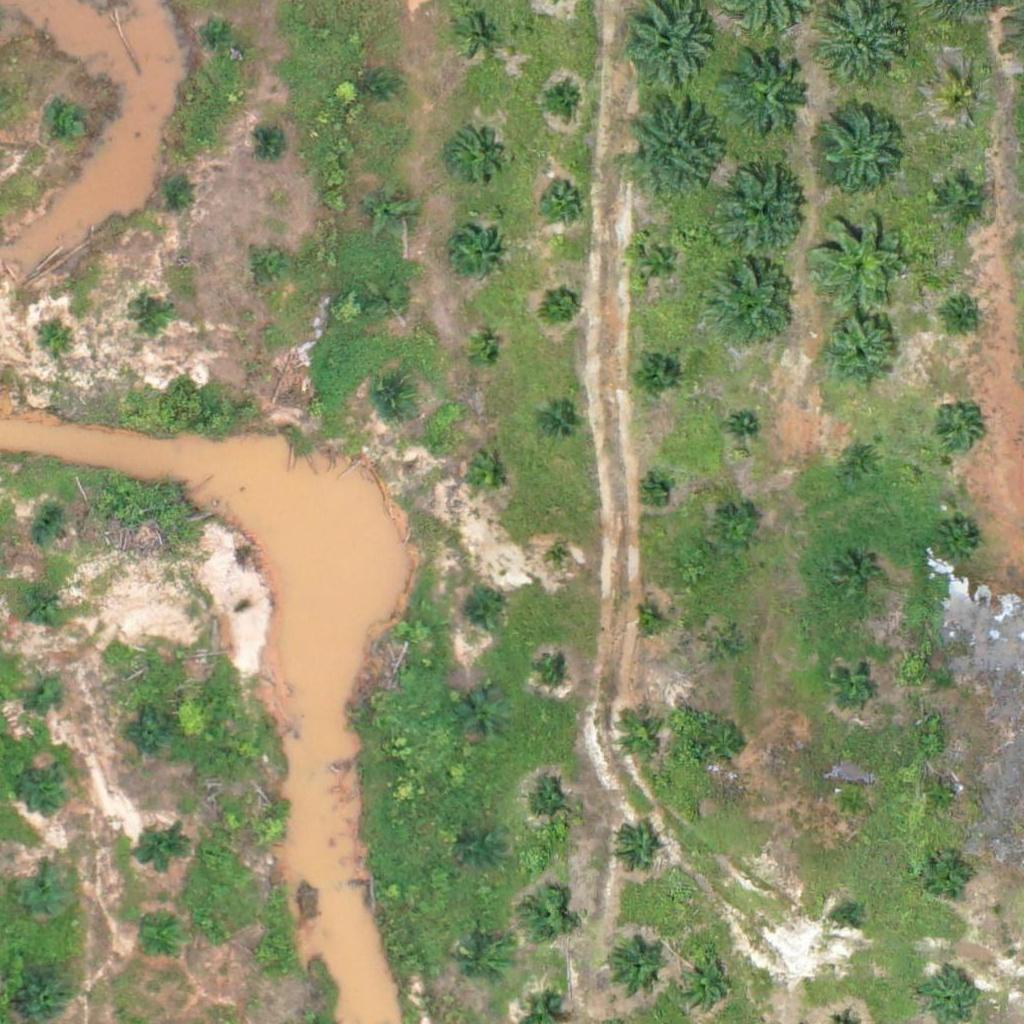Kelapa_Sawit: (809, 208, 909, 309), (627, 100, 727, 201), (822, 2, 910, 91), (816, 309, 904, 397), (707, 258, 795, 346), (719, 166, 807, 254), (726, 53, 814, 141), (816, 98, 903, 186), (15, 864, 78, 927), (673, 953, 736, 1016), (446, 224, 508, 287), (607, 935, 669, 998), (22, 971, 72, 1022), (703, 718, 753, 769), (923, 848, 973, 899), (449, 127, 499, 178), (616, 712, 666, 763), (462, 451, 512, 502), (365, 184, 415, 235), (23, 762, 73, 812), (937, 176, 987, 226), (524, 783, 574, 833), (522, 892, 572, 942), (611, 825, 661, 875), (136, 826, 186, 876), (134, 916, 184, 966), (931, 405, 981, 455), (934, 519, 984, 569), (831, 658, 881, 708), (831, 551, 881, 601), (838, 437, 888, 487), (711, 507, 761, 557), (630, 347, 680, 397), (458, 691, 508, 741), (127, 711, 177, 761), (938, 76, 988, 126), (633, 238, 683, 288), (538, 174, 588, 224), (460, 942, 510, 992), (245, 935, 283, 973), (251, 810, 289, 848), (462, 592, 500, 630), (355, 69, 393, 107), (29, 670, 67, 708), (29, 583, 67, 621), (28, 508, 66, 546), (48, 106, 85, 144), (832, 784, 870, 821), (706, 629, 744, 666), (465, 336, 503, 373), (462, 830, 499, 868), (543, 80, 580, 118), (461, 13, 498, 51), (255, 124, 293, 161), (131, 299, 168, 337), (372, 282, 410, 319), (545, 284, 582, 322), (35, 323, 72, 361), (925, 778, 962, 816), (541, 408, 578, 445), (373, 380, 410, 417), (153, 172, 190, 209), (250, 250, 287, 287), (201, 15, 238, 52), (834, 905, 859, 930), (642, 478, 667, 503), (635, 608, 660, 633), (547, 547, 572, 572), (541, 659, 566, 684), (952, 304, 977, 329), (730, 414, 754, 439)
